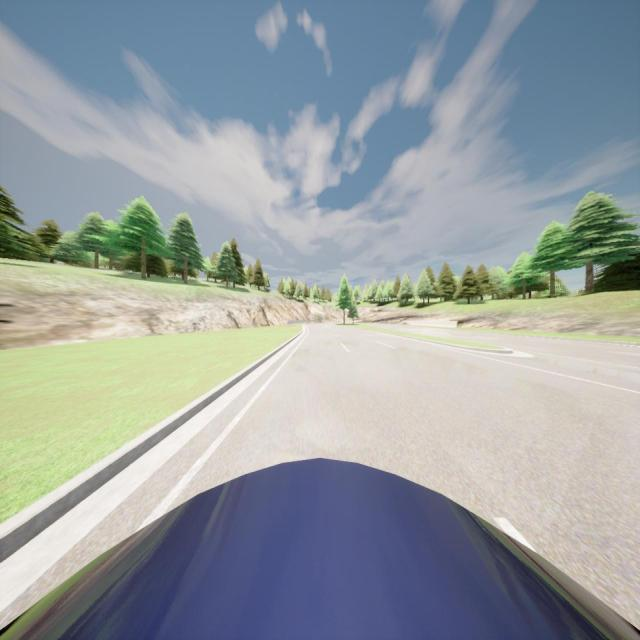Vehicle: (0, 458, 640, 638)
